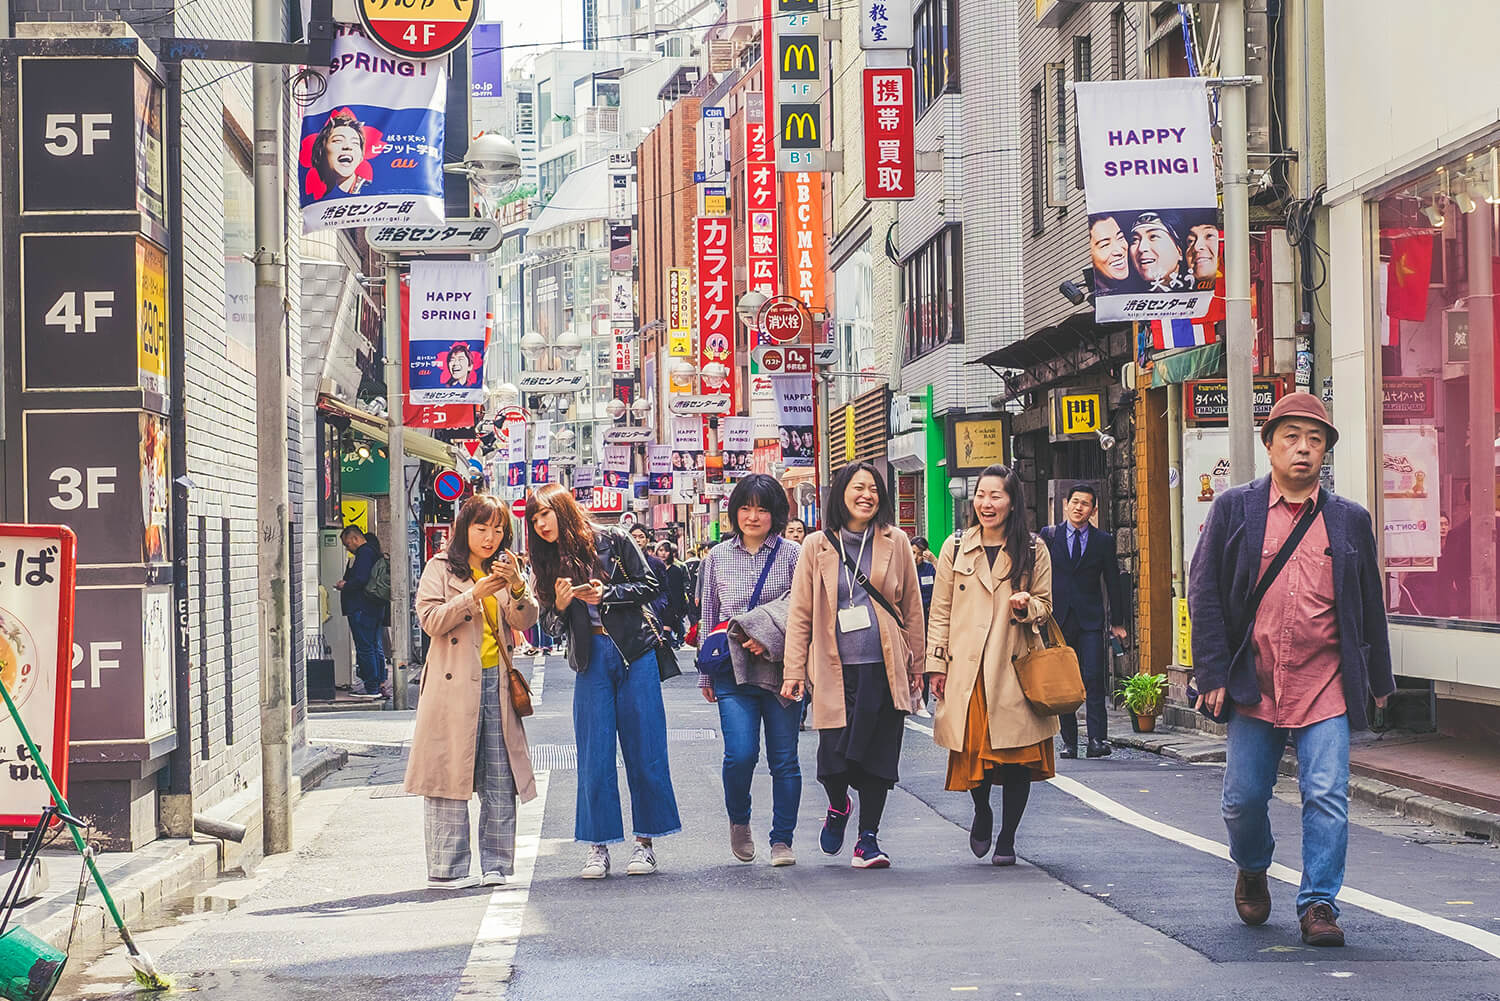person: (1181, 375, 1411, 958), (912, 459, 1088, 873), (519, 481, 695, 887), (775, 454, 937, 875), (676, 459, 820, 879), (410, 482, 547, 887), (1030, 479, 1133, 767), (323, 519, 411, 703)
